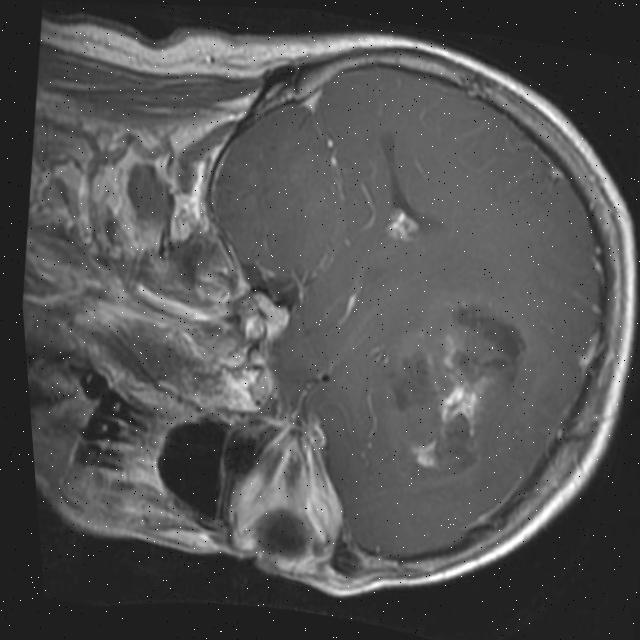Glioma: (400, 324, 512, 488)
